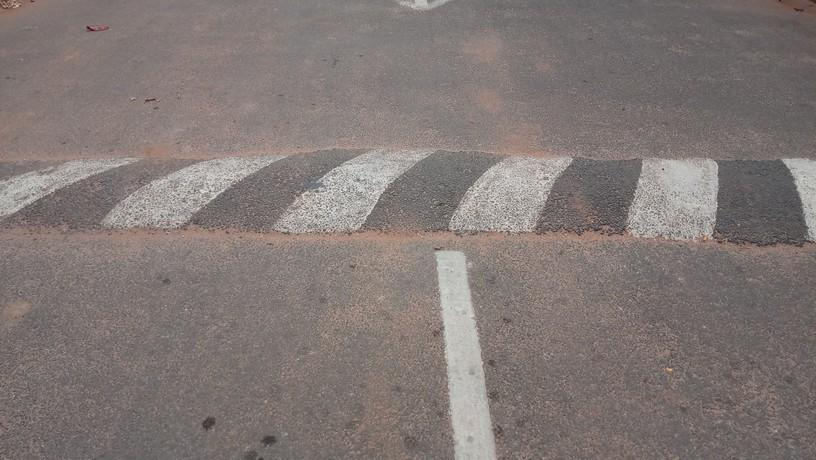speed-bump: (3, 147, 816, 241)
